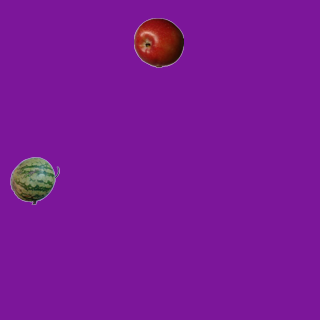Apple Braeburn: (133, 17, 183, 67)
Watermelon: (9, 155, 59, 205)
